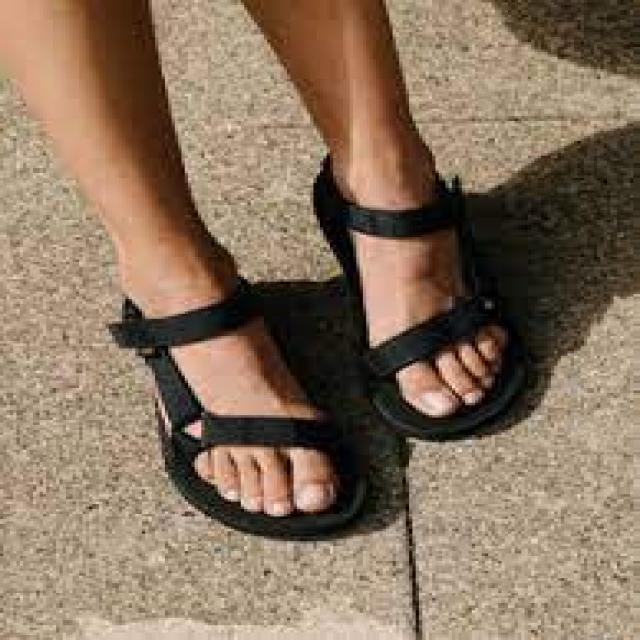Sandals: (108, 258, 370, 540), (311, 140, 531, 440)
